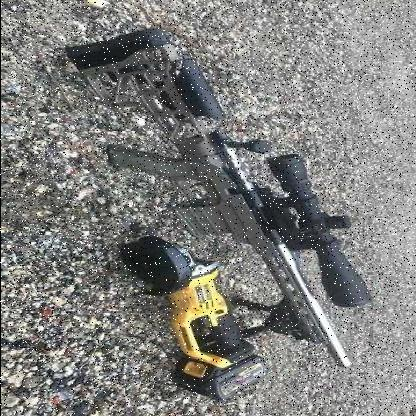rifle: (52, 25, 387, 372)
